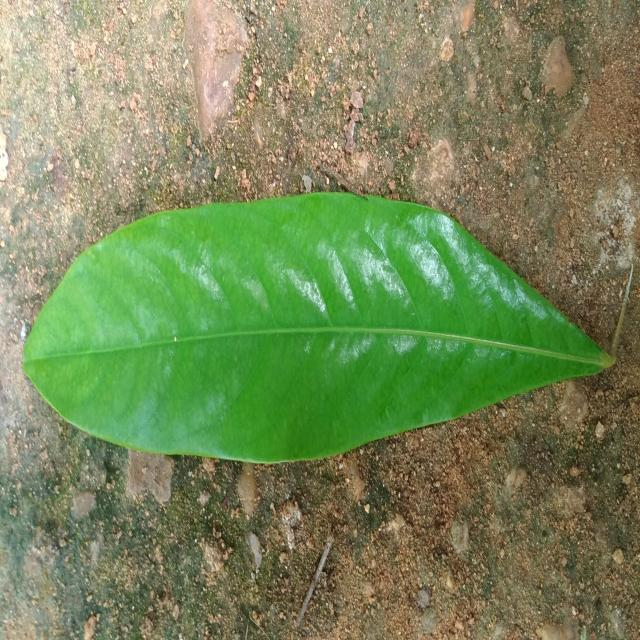seethaashoka: (24, 193, 612, 462)
